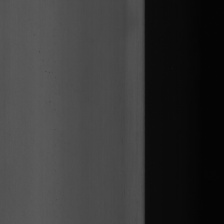inclusion: (44, 65, 53, 84), (37, 45, 47, 60)
